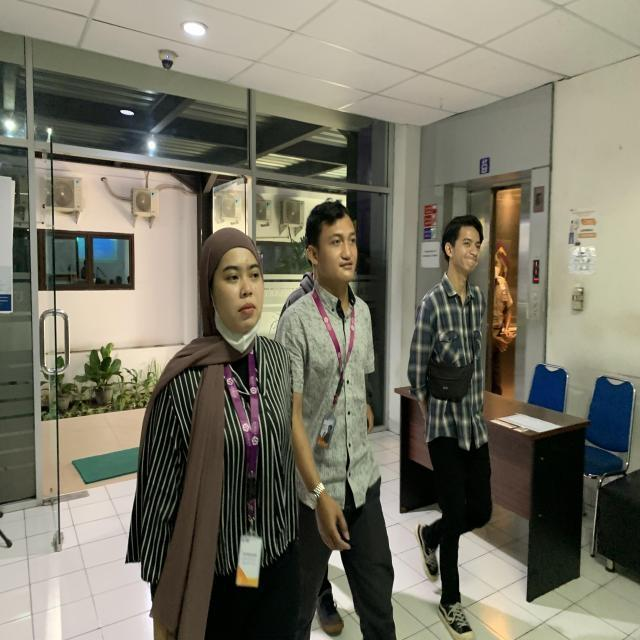hairnet: (202, 233, 266, 324)
